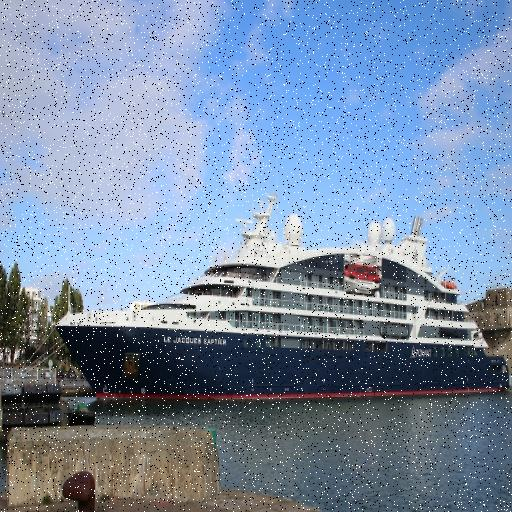cruises: (51, 189, 511, 413)
